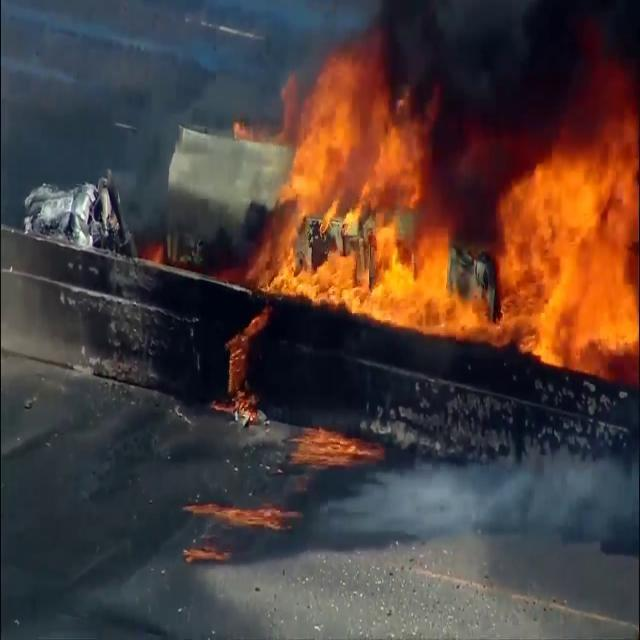Fire: (243, 43, 640, 362), (292, 418, 370, 458)
Smoke: (387, 2, 640, 170)
